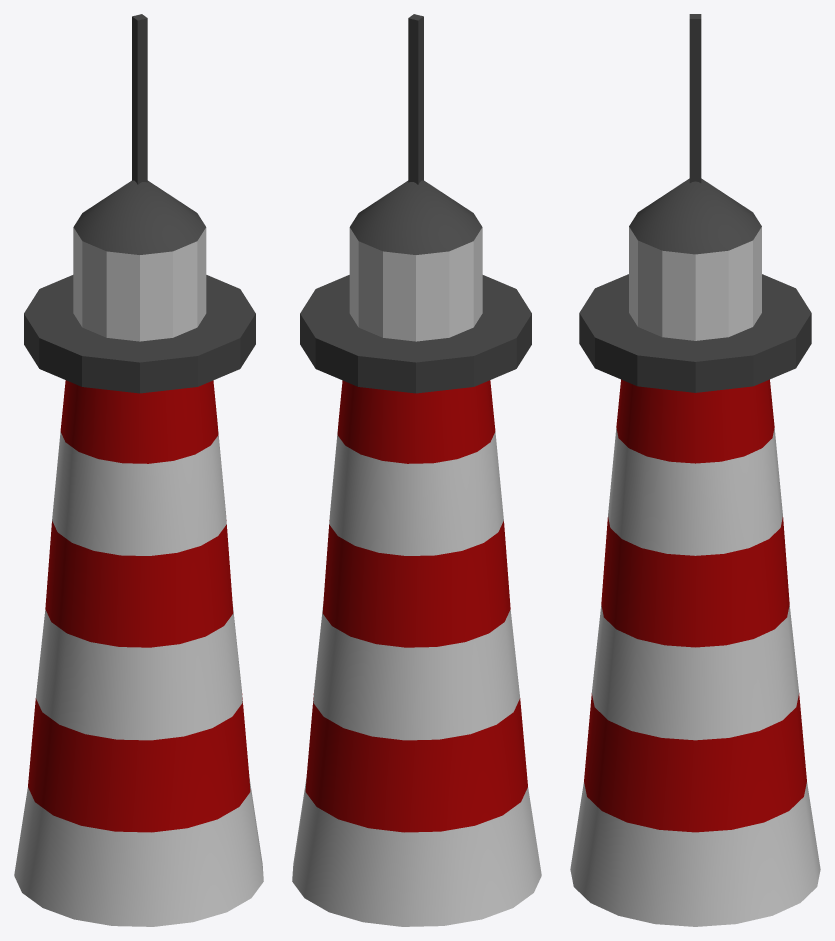
Rendered from Lighthouse.obj.
The picture shows the model from 3 angles, left to right: view 1: azimuth 30°, elevation 25°; view 2: azimuth 150°, elevation 25°; view 3: azimuth 270°, elevation 25°; orthographic projection.
Parts seen in each view (by area): view 1: pCylinder1, pCylinder3, pCylinder2, pCube1; view 2: pCylinder1, pCylinder3, pCylinder2, pCube1; view 3: pCylinder1, pCylinder3, pCylinder2, pCube1.
Boxes of the visible parts, x1,y1,x2,y2 form: pCylinder1: (14, 380, 263, 926); pCylinder3: (73, 180, 206, 341); pCylinder2: (24, 275, 255, 393); pCube1: (132, 14, 147, 184); pCylinder1: (292, 380, 541, 926); pCylinder3: (349, 180, 482, 341); pCylinder2: (300, 275, 531, 393); pCube1: (408, 14, 423, 184); pCylinder1: (570, 379, 820, 926); pCylinder3: (629, 178, 761, 340); pCylinder2: (579, 274, 811, 392); pCube1: (689, 14, 701, 182).
Size of the model in its own units: 3.53 by 13.4 by 3.54.
